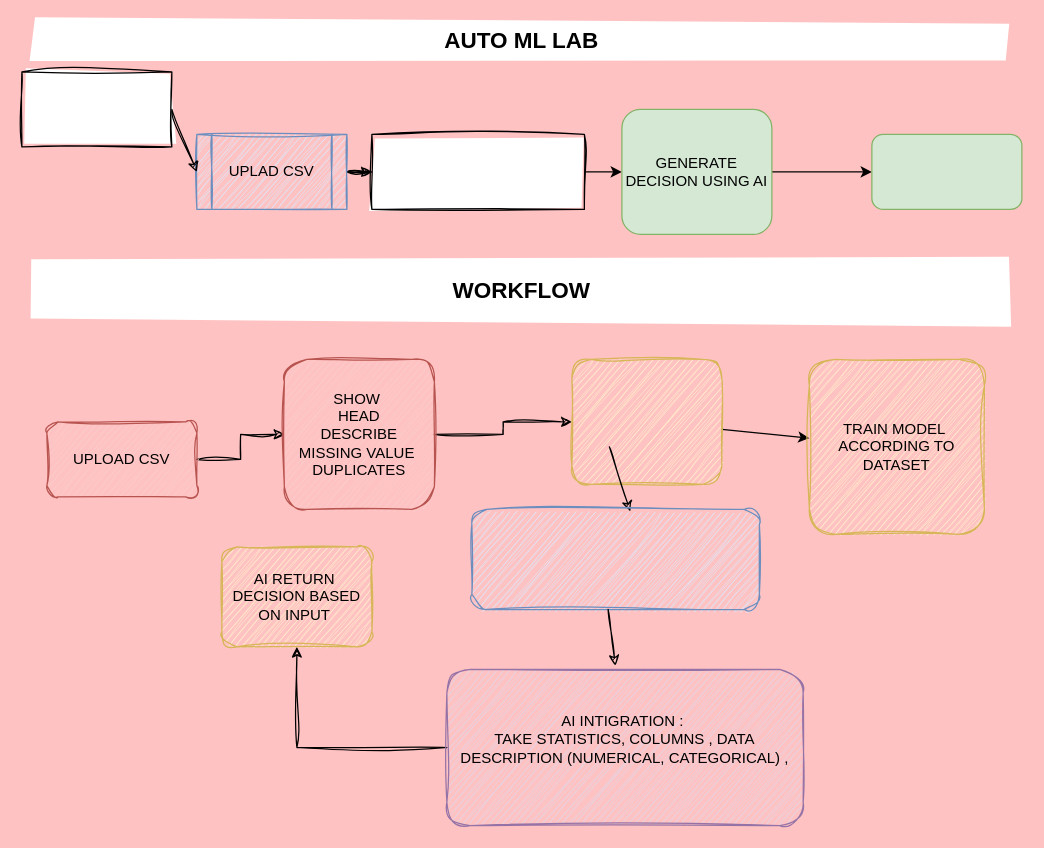
This 1044x848 diagram has some shape labels left out. The shapes that lost their labels are listed below. From the top down, each one's centre as x and y in pixels, then its label:
At [96,109]: "AI ANALYTICS PROJECTS".
At [477,171]: "GENERATE CARTS AND INSIGHTS".
At [946,171]: "TRAIN MODEL".
At [646,421]: "SHOW : CHARTS CORREALTION".
At [615,558]: "input:- PROMPT desc, stats, head_of_df".
